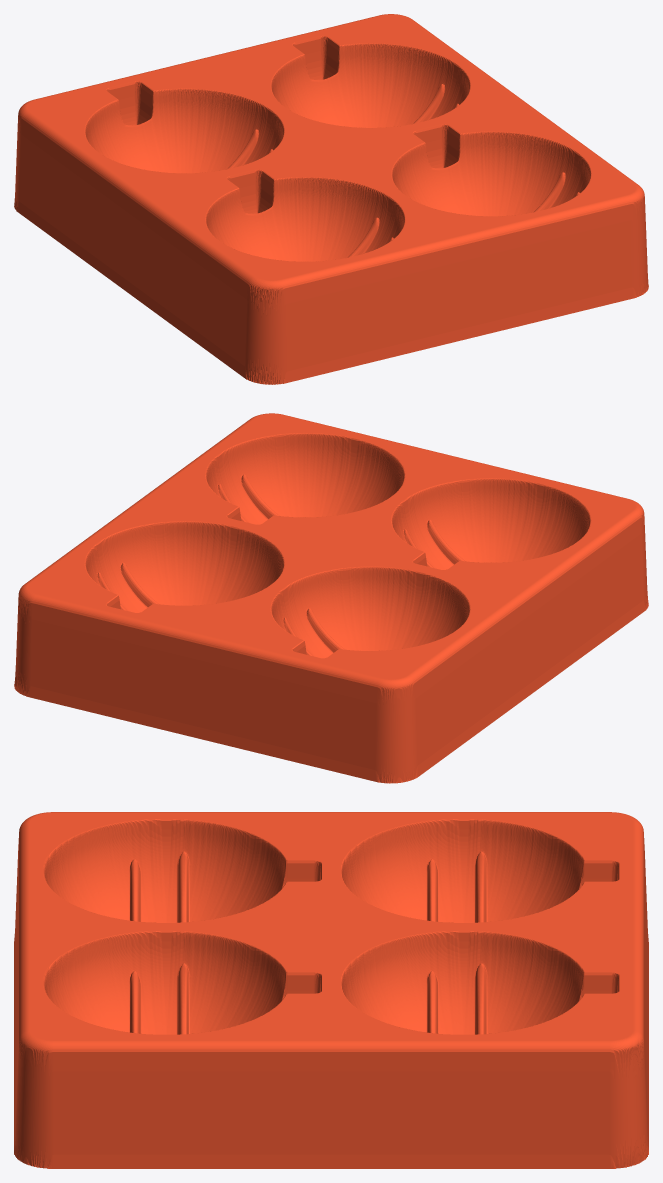
The model's file is mold.glb.
3 renders of one model, top to bottom at view 1: azimuth 30°, elevation 25°; view 2: azimuth 150°, elevation 25°; view 3: azimuth 270°, elevation 25°, orthographic. The views are drawn at different scales.
Visible parts, largest first — view 1: geometry_0; view 2: geometry_0; view 3: geometry_0.
Boxes of the visible parts, x1,y1,x2,y2 form: geometry_0: (14,14,648,384); geometry_0: (14,413,648,783); geometry_0: (14,812,648,1168).
Bounding box in the file's own units: 0.1315 × 0.031 × 0.1466.
